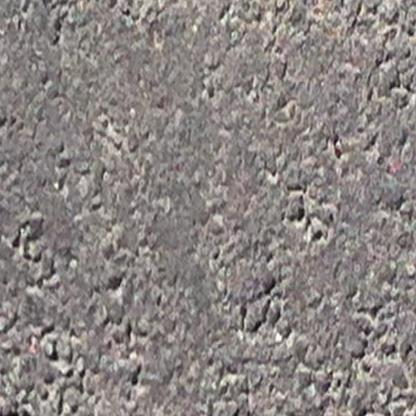Cracks: (0, 403, 34, 416), (216, 409, 249, 416)
